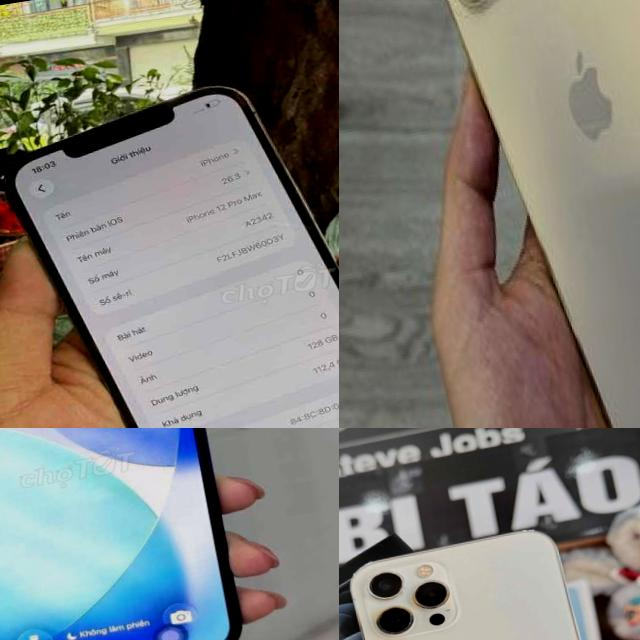gen_12_13: (6, 63, 339, 428), (395, 0, 640, 428), (0, 428, 249, 640), (342, 520, 640, 640)
